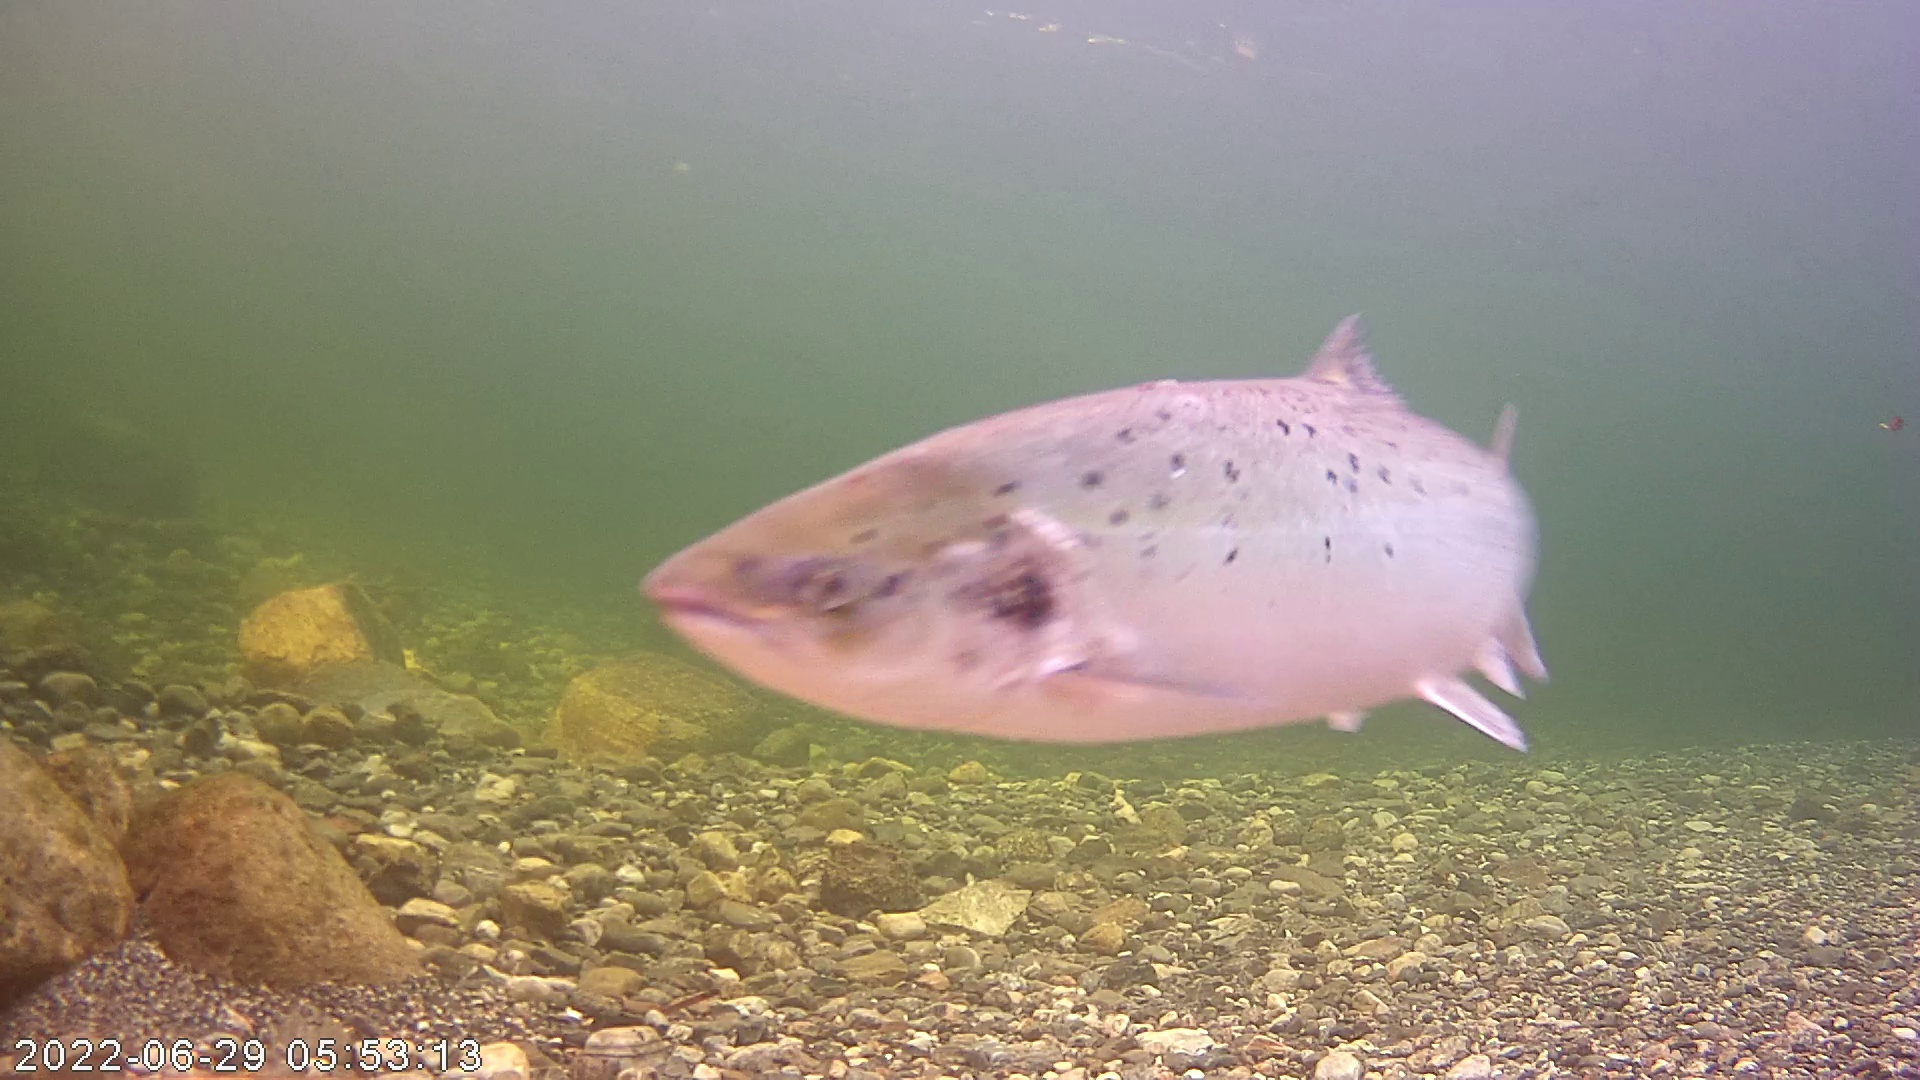salmon: (626, 240, 1545, 760)
